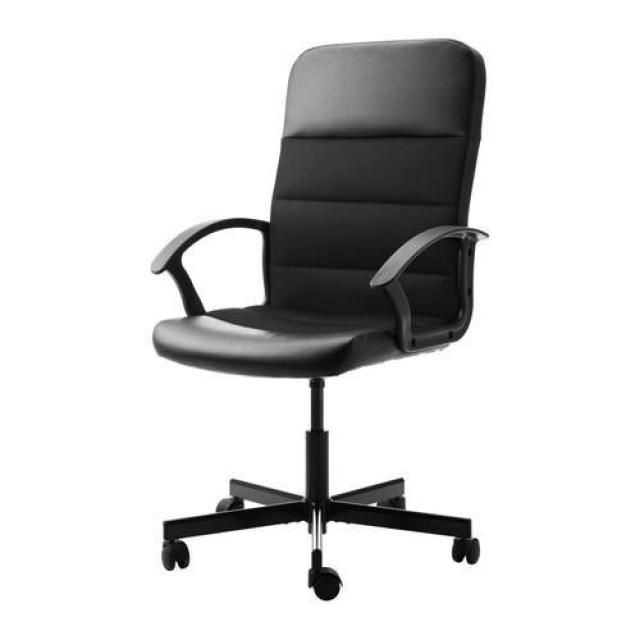swivelchair: (152, 38, 488, 604)
